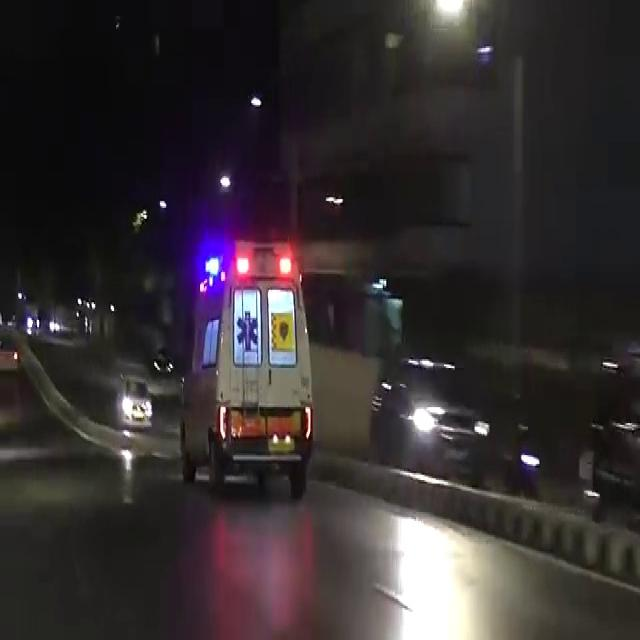ambulance: (190, 228, 322, 490)
